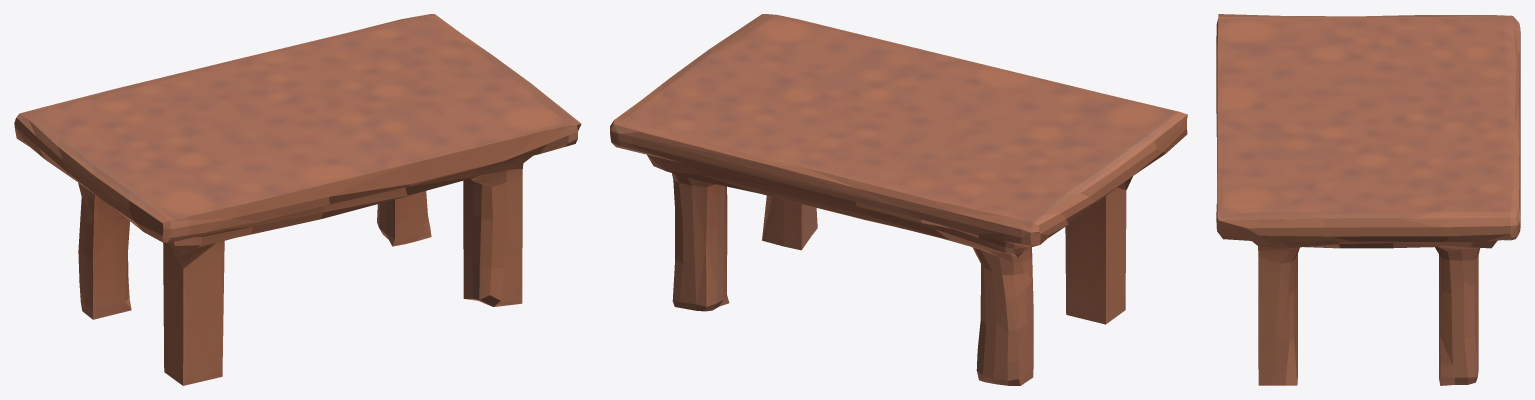
File: Vic_Table.fbx
3 renders of one model, left to right at view 1: azimuth 30°, elevation 25°; view 2: azimuth 150°, elevation 25°; view 3: azimuth 270°, elevation 25°, orthographic.
Visible parts, largest first — view 1: Mesh0; view 2: Mesh0; view 3: Mesh0.
Boxes of the visible parts, x1,y1,x2,y2 form: Mesh0: (14, 14, 581, 385); Mesh0: (610, 14, 1187, 385); Mesh0: (1216, 14, 1520, 385).
Size of the model in its own units: 4.68 by 2 by 2.92.
1 material, 1 textured.
